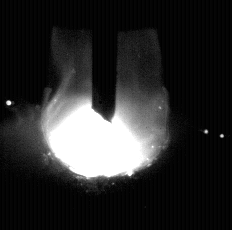arame: (93, 0, 118, 123)
poca: (40, 0, 166, 230)
